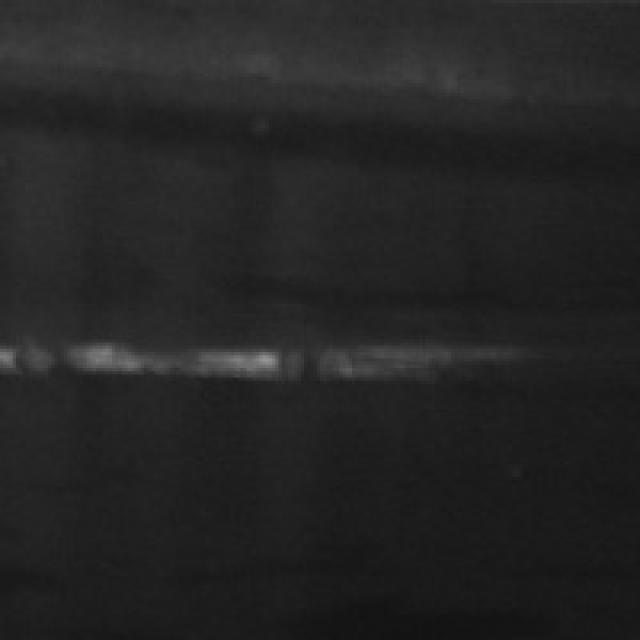scratches: (0, 330, 477, 384)
